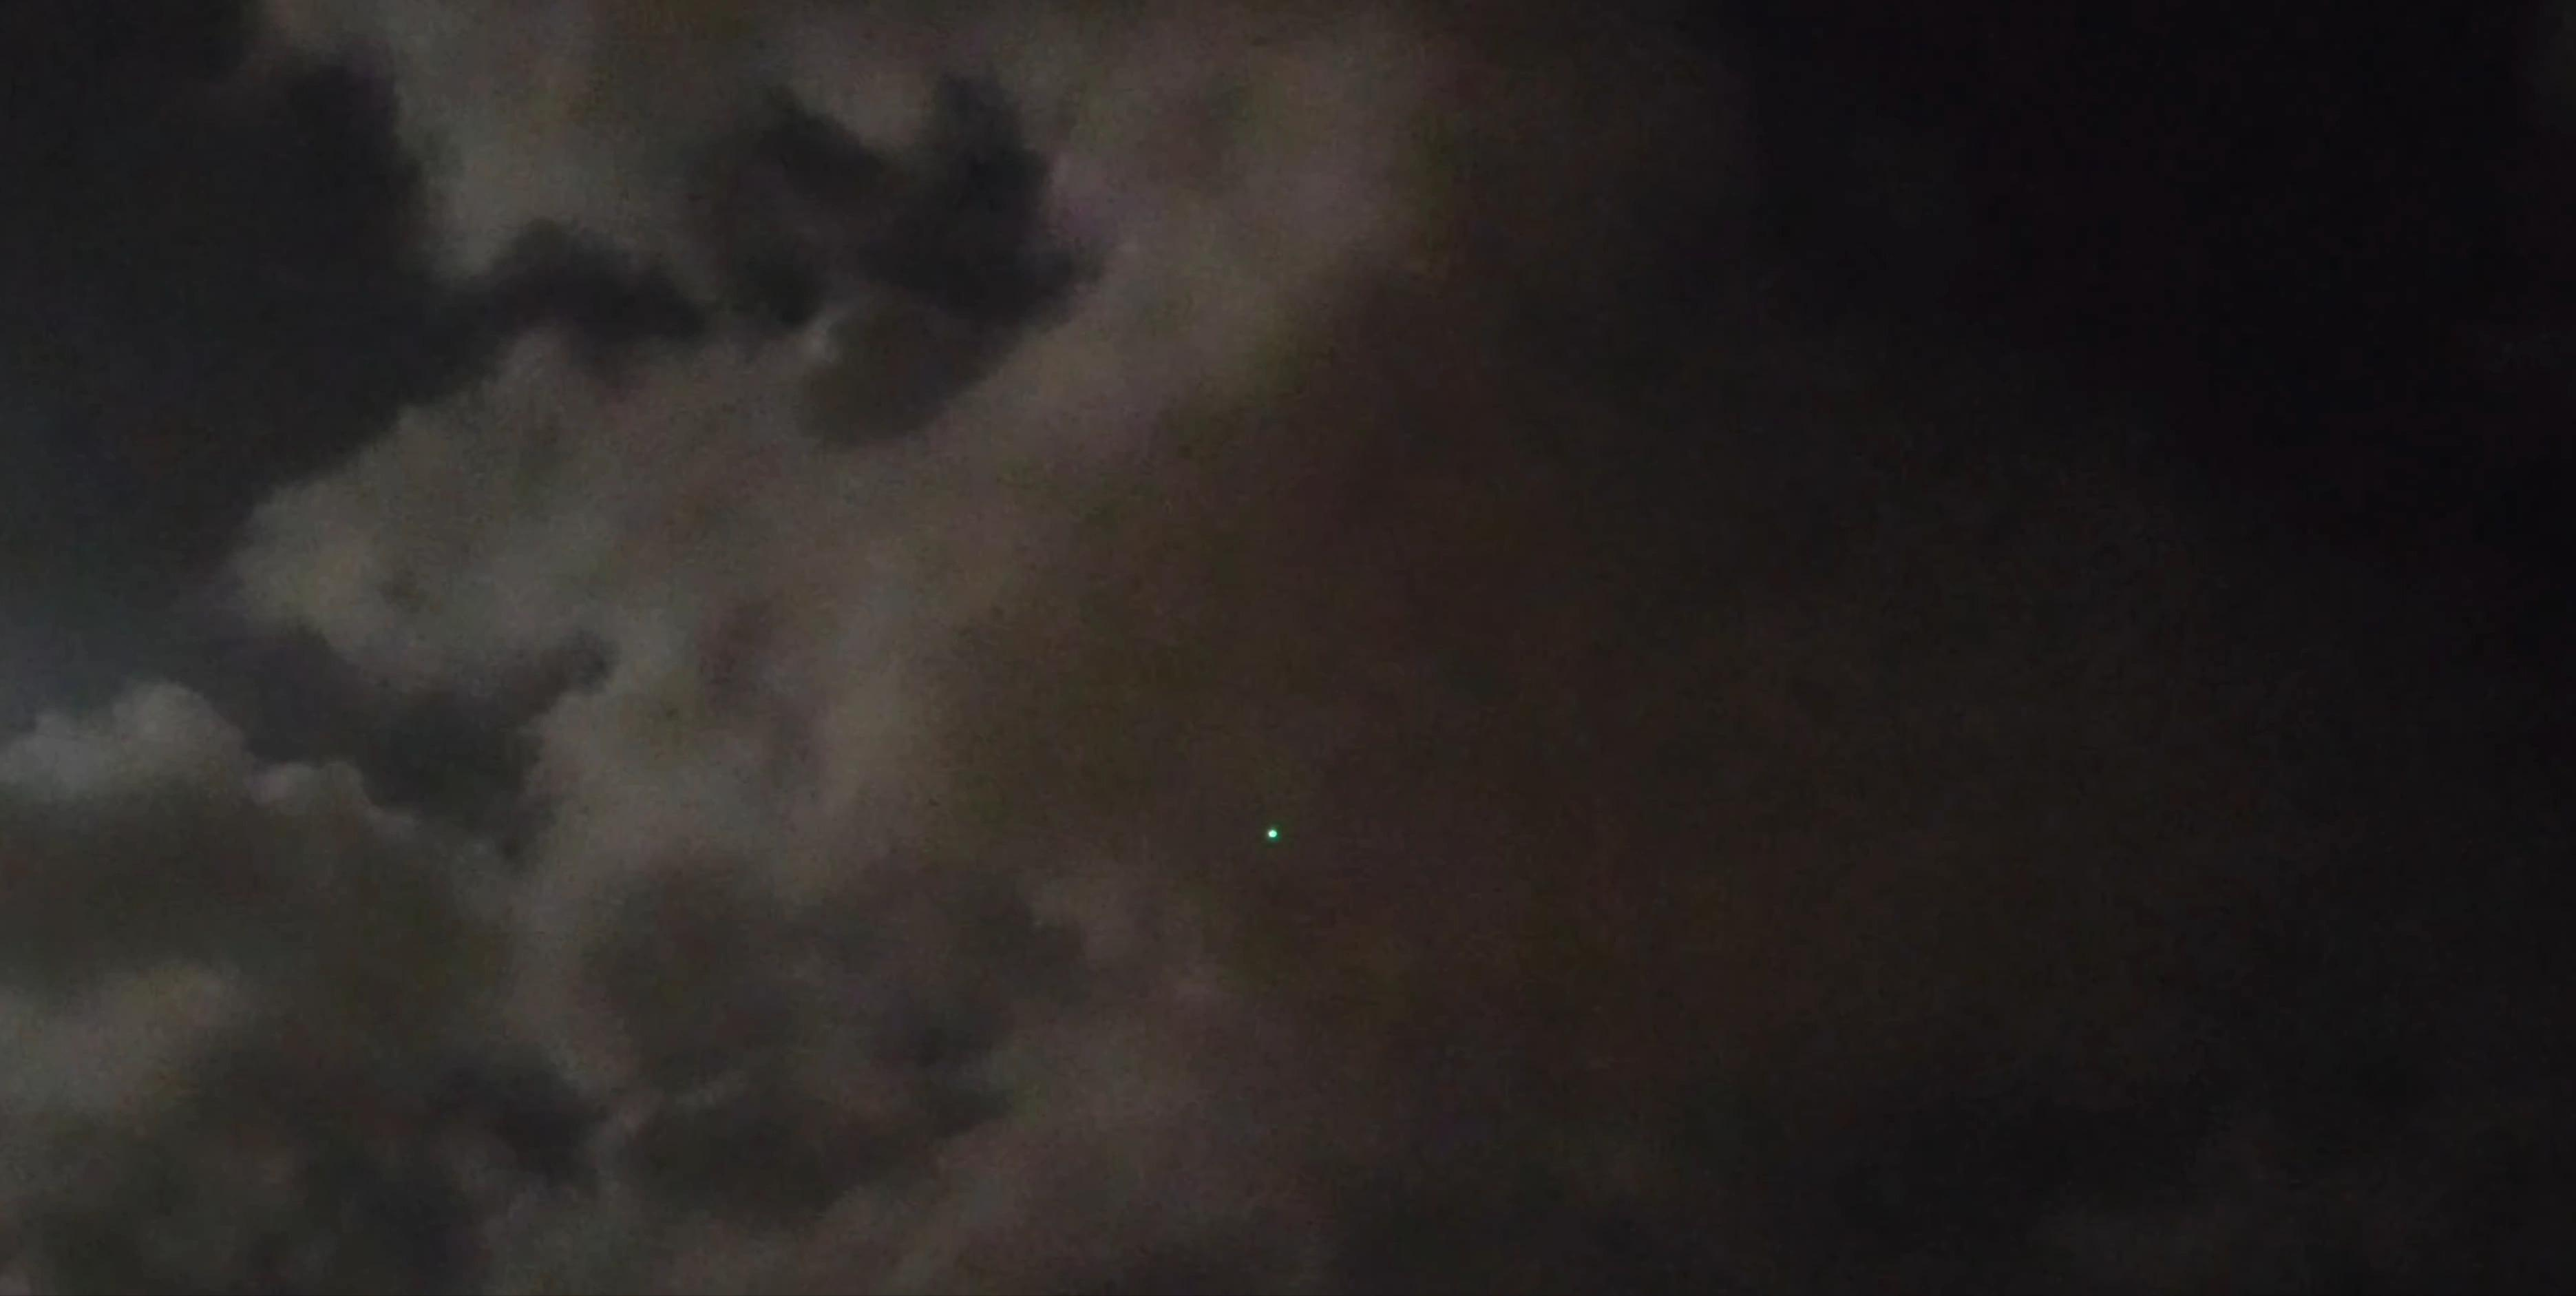Plane: (1259, 807, 1290, 858)
